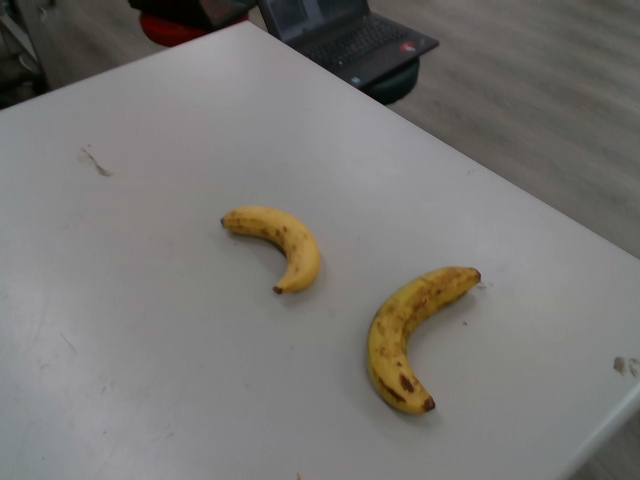banana: (361, 262, 482, 417), (222, 204, 321, 295)
